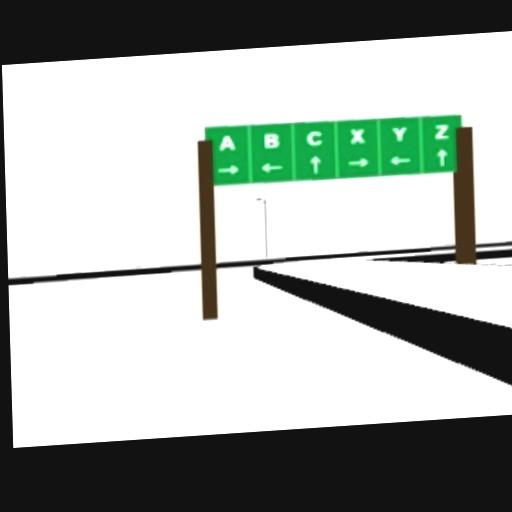A: (217, 133, 234, 150)
B: (262, 130, 279, 147)
C: (305, 129, 322, 144)
Left: (260, 160, 283, 173), (389, 154, 410, 164)
Right: (346, 156, 369, 167), (217, 161, 238, 173)
Straight: (435, 148, 448, 166), (310, 154, 321, 173)
X: (348, 126, 365, 143)
Y: (391, 123, 408, 140)
Z: (433, 122, 449, 137)
